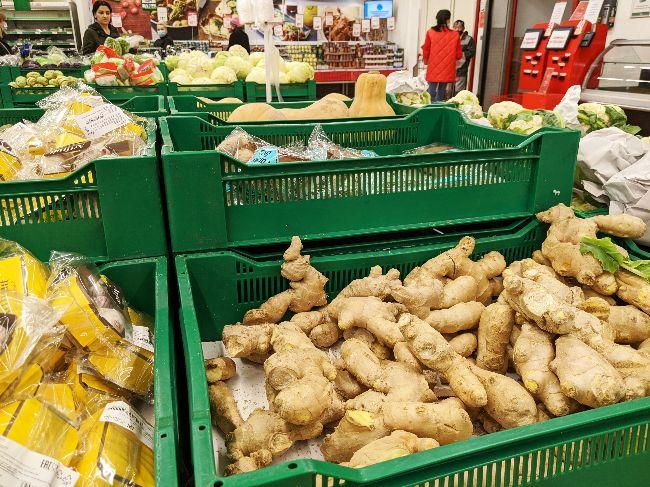ginger: (196, 209, 650, 486)
